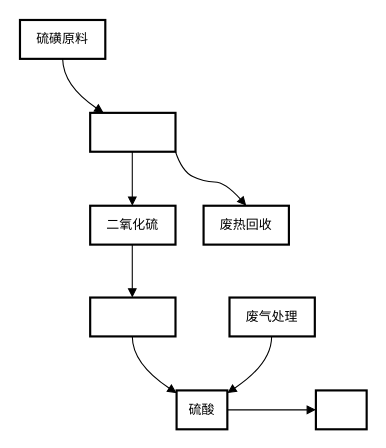
This 386x448 diagram has some shape labels left out. Here are the shapes that lost their labels. From the top down, the centre of each, then its label:
At point (132, 131): "硫磺焙烧".
At point (132, 316): "三氧化硫".
At point (340, 409): "存储".
